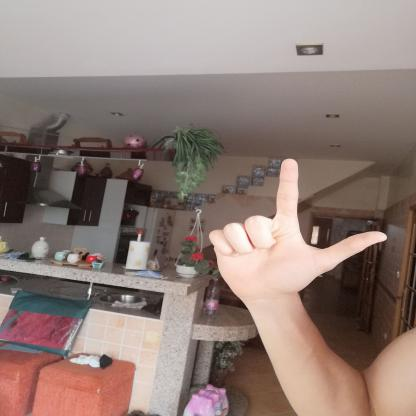LAAM: (199, 152, 396, 310)
